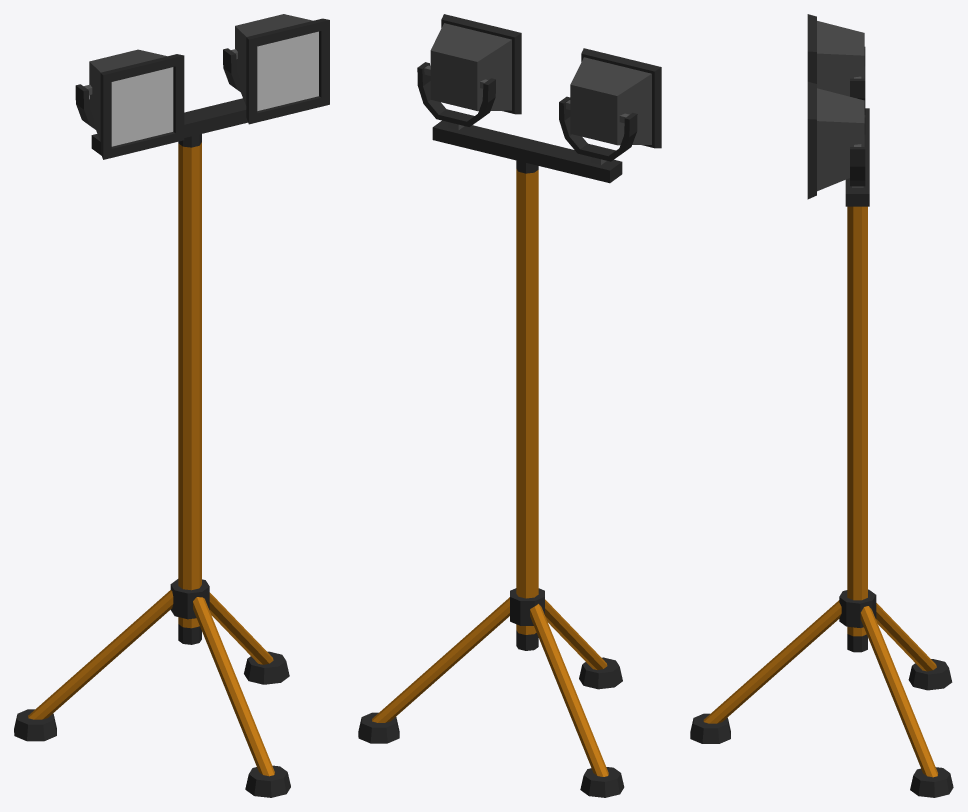
File: Light_01.fbx
3 renders of one model, left to right at view 1: azimuth 30°, elevation 25°; view 2: azimuth 150°, elevation 25°; view 3: azimuth 270°, elevation 25°, orthographic. The views are drawn at different scales.
Visible parts, largest first — view 1: Light_01; view 2: Light_01; view 3: Light_01.
Part boxes in pixels (bbox=[...]): Light_01: bbox=[14, 14, 329, 797]; Light_01: bbox=[358, 14, 661, 797]; Light_01: bbox=[690, 14, 953, 797].
Bounding box in the file's own units: 60.92 × 151 × 53.79.
